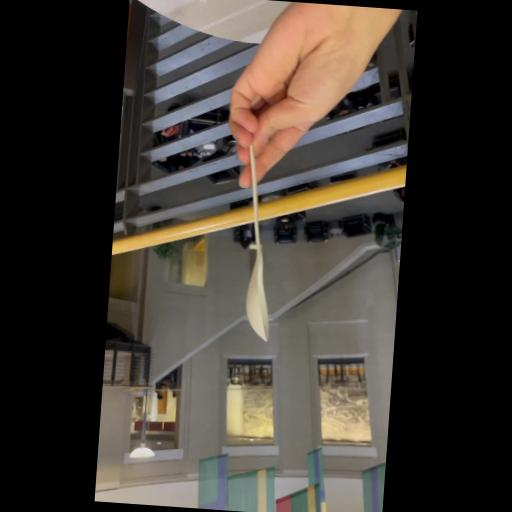utensil: (230, 139, 286, 343)
